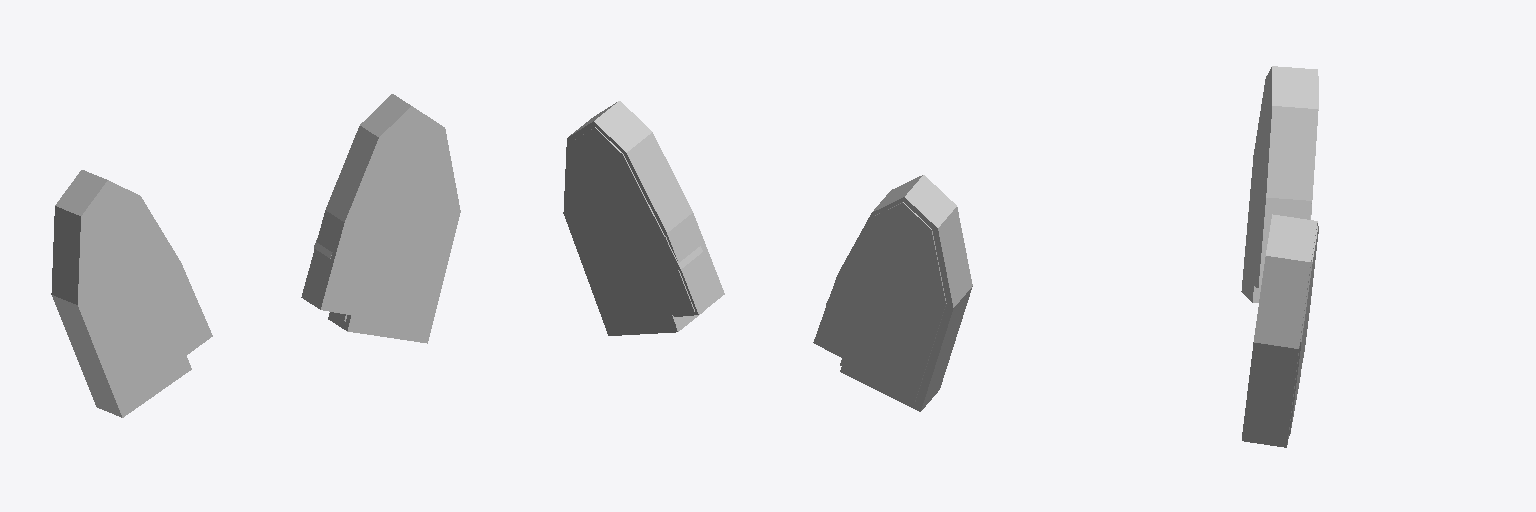
Rendered from joedevsetbackup.obj.
3 views of the same model, side by side, from view 1: azimuth 30°, elevation 25°; view 2: azimuth 150°, elevation 25°; view 3: azimuth 270°, elevation 25° (orthographic).
Visible parts, largest first — view 1: RightEar1, LeftEar1, LeftEar2, RightEar2, LeftEar3, LeftEar4, RightEar4, LeftEar7, RightEar3, RightEar5, LeftEar5, RightEar7 (+2 smaller); view 2: 1InnerRightEar, 1InnerLeftEar, LeftEar3, LeftEar2, RightEar1, 2InnerRightEar, RightEar2, 3InnerLeftEar, 7InnerLeftEar, 7InnerRightEar, 3InnerRightEar, 2InnerLeftEar (+8 smaller); view 3: LeftEar1, RightEar5, LeftEar4, RightEar6, LeftEar5, RightEar1, RightEar4.
Boxes of the visible parts, <box> form: RightEar1: <box>52,257,191,417</box>; LeftEar1: <box>328,200,460,343</box>; LeftEar2: <box>301,210,372,316</box>; RightEar2: <box>51,206,117,304</box>; LeftEar3: <box>326,126,385,229</box>; LeftEar4: <box>409,128,460,224</box>; RightEar4: <box>157,263,212,360</box>; LeftEar7: <box>360,94,436,167</box>; RightEar3: <box>55,170,159,243</box>; RightEar5: <box>116,196,180,281</box>; LeftEar5: <box>372,106,444,194</box>; RightEar7: <box>99,221,146,279</box>; 1InnerRightEar: <box>840,272,945,402</box>; 1InnerLeftEar: <box>569,212,686,328</box>; LeftEar3: <box>624,132,692,233</box>; LeftEar2: <box>664,213,724,316</box>; RightEar1: <box>840,286,972,411</box>; 2InnerRightEar: <box>816,279,872,359</box>; RightEar2: <box>932,207,972,308</box>; 3InnerLeftEar: <box>636,236,694,314</box>; 7InnerLeftEar: <box>603,154,702,270</box>; 7InnerRightEar: <box>826,216,899,319</box>; 3InnerRightEar: <box>897,227,946,303</box>; 2InnerLeftEar: <box>568,143,603,225</box>; LeftEar1: <box>1242,342,1299,447</box>; RightEar5: <box>1262,106,1317,200</box>; LeftEar4: <box>1254,256,1310,348</box>; RightEar6: <box>1265,66,1317,128</box>; LeftEar5: <box>1266,214,1317,261</box>; RightEar1: <box>1241,155,1264,302</box>; RightEar4: <box>1254,198,1311,288</box>.
Size of the model in its own units: 0.6116 by 0.347 by 0.1048.